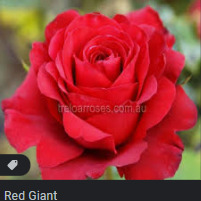RedRose: (0, 1, 201, 179)
